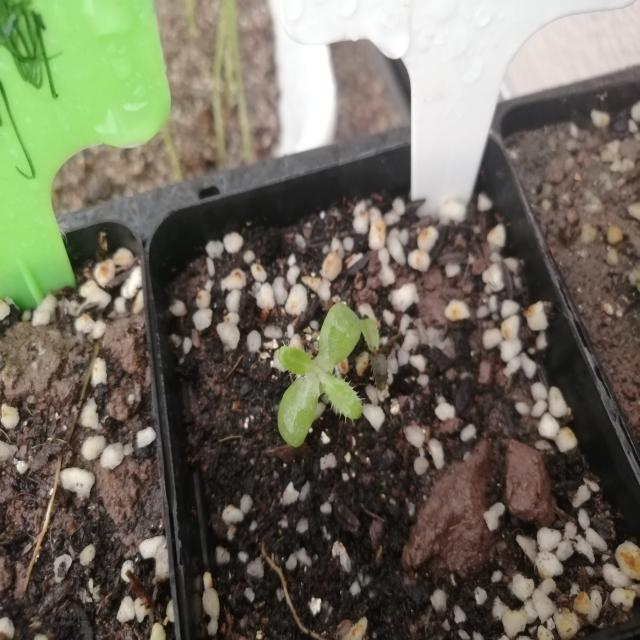field_thistle: (269, 308, 389, 465)
